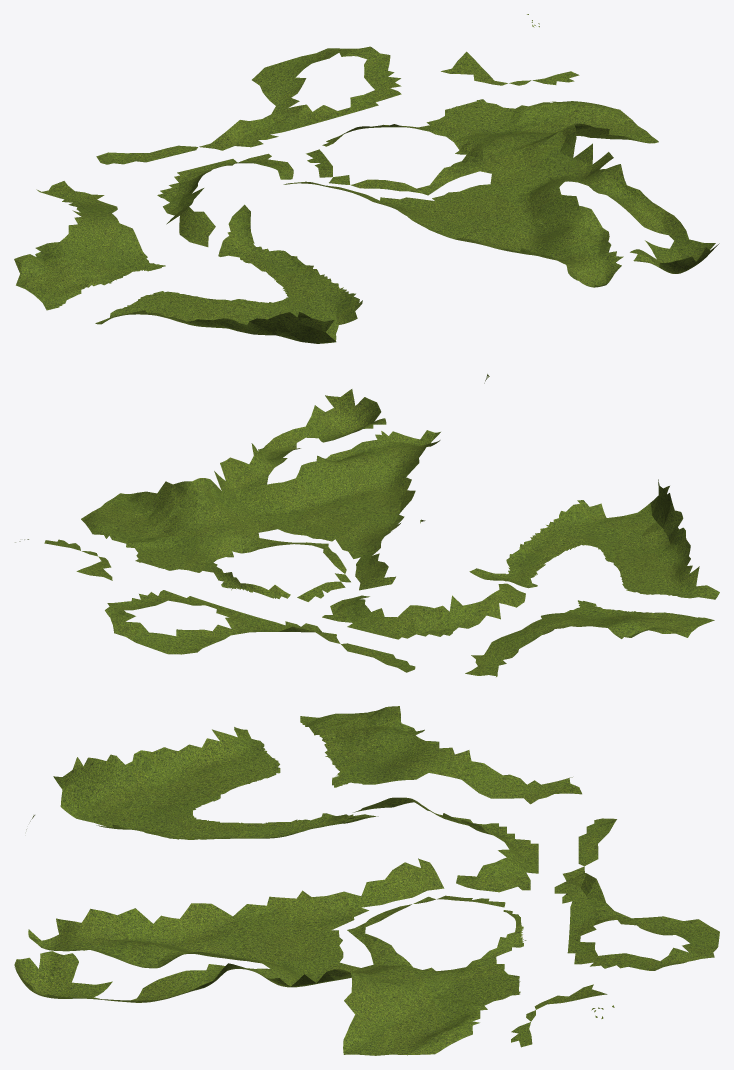
The model's file is grass_v2.obj.
3 views of the same model, one above another, from view 1: azimuth 30°, elevation 25°; view 2: azimuth 150°, elevation 25°; view 3: azimuth 270°, elevation 25° (orthographic). The views are drawn at different scales.
Parts seen in each view (by area): view 1: Grass_Plane.004; view 2: Grass_Plane.004; view 3: Grass_Plane.004.
Part boxes in pixels (x1,y1,x2,y2): Grass_Plane.004: (14,14,719,343); Grass_Plane.004: (15,374,719,676); Grass_Plane.004: (14,706,719,1055).
Bounding box in the file's own units: 40.05 × 5.75 × 35.17.
